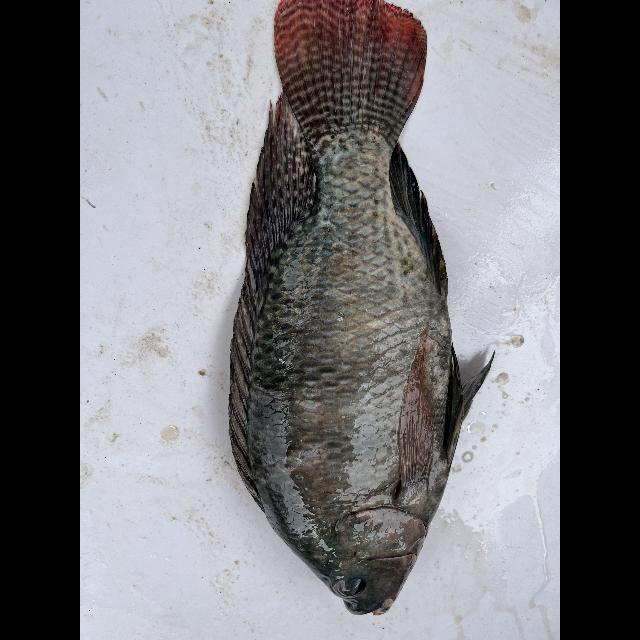Tilapia: (229, 0, 493, 618)
